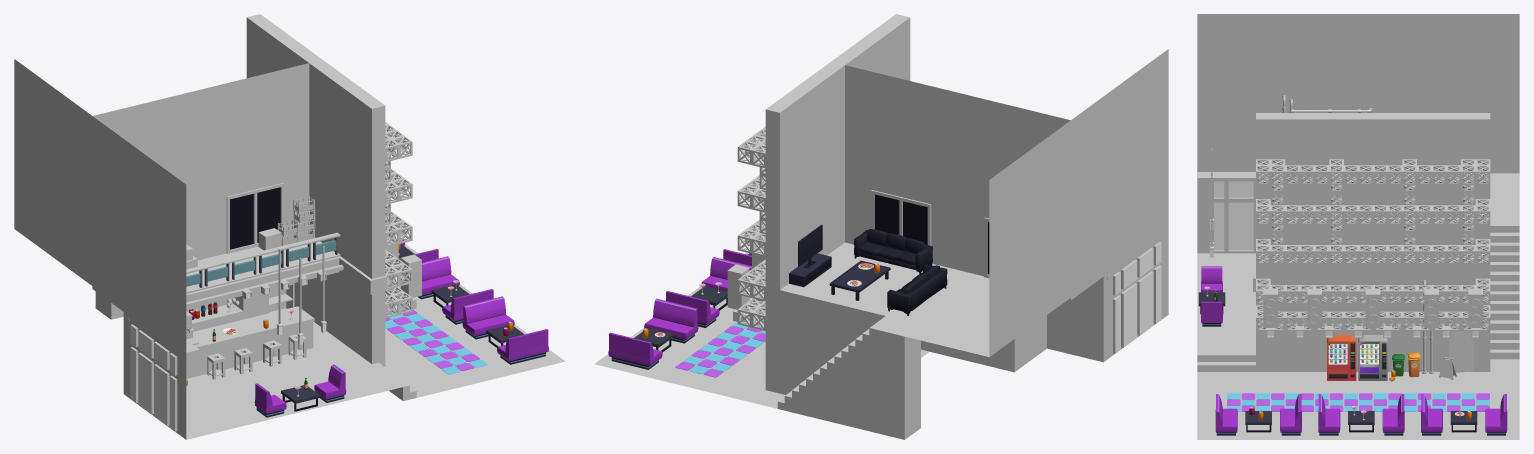
Rendered from ClubExport.fbx.
3 views of the same model, side by side, from view 1: azimuth 30°, elevation 25°; view 2: azimuth 150°, elevation 25°; view 3: azimuth 270°, elevation 25° (orthographic). The views are drawn at different scales.
Parts seen in each view (by area): view 1: Plane.239, Plane.207, Plane.005, Plane.189, Plane.202, Plane.128, base_cube.001, Cube.001, Plane.045, Plane.273, Plane.274, Plane.003 (+22 smaller); view 2: Plane.239, Plane.189, Stairs.003, Plane.032, Plane.207, Plane.226, Plane.128, Plane.103, Plane.033, Plane.273, Plane.045, Cube.001 (+18 smaller); view 3: Plane.239, Plane.128, Plane.202, Plane.124, Plane.207, Plane.189, Plane.005, Stairs.002, Plane.045, Plane.273, Cube.164, Cube.165 (+25 smaller).
Part boxes in pixels (bbox=[...]): Plane.239: bbox=[14, 14, 385, 269]; Plane.207: bbox=[92, 148, 371, 363]; Plane.005: bbox=[186, 341, 402, 439]; Plane.189: bbox=[14, 144, 92, 285]; Plane.202: bbox=[180, 148, 309, 260]; Plane.128: bbox=[385, 244, 565, 397]; base_cube.001: bbox=[186, 306, 314, 378]; Cube.001: bbox=[226, 183, 284, 253]; Plane.045: bbox=[385, 307, 487, 374]; Plane.273: bbox=[130, 325, 174, 431]; Plane.274: bbox=[186, 256, 386, 309]; Plane.003: bbox=[131, 315, 178, 433]; Plane.239: bbox=[765, 14, 1168, 268]; Plane.189: bbox=[780, 154, 1070, 356]; Stairs.003: bbox=[777, 328, 920, 439]; Plane.032: bbox=[780, 242, 989, 356]; Plane.207: bbox=[1071, 137, 1168, 297]; Plane.226: bbox=[845, 154, 989, 276]; Plane.128: bbox=[594, 252, 785, 408]; Plane.103: bbox=[780, 290, 885, 394]; Plane.033: bbox=[1014, 285, 1103, 371]; Plane.273: bbox=[1115, 243, 1161, 353]; Plane.045: bbox=[675, 319, 765, 377]; Cube.001: bbox=[871, 190, 931, 245]; Plane.239: bbox=[1197, 14, 1519, 198]; Plane.128: bbox=[1197, 359, 1519, 439]; Plane.202: bbox=[1256, 199, 1490, 278]; Plane.124: bbox=[1256, 278, 1490, 371]; Plane.207: bbox=[1197, 93, 1372, 172]; Plane.189: bbox=[1373, 93, 1519, 173]; Plane.005: bbox=[1197, 253, 1255, 352]; Stairs.002: bbox=[1490, 210, 1519, 359]; Plane.045: bbox=[1227, 393, 1489, 411]; Plane.273: bbox=[1214, 181, 1253, 250]; Cube.164: bbox=[1358, 335, 1387, 380]; Cube.165: bbox=[1327, 335, 1356, 380].
Size of the model in its own units: 2817 by 1908 by 2200.
